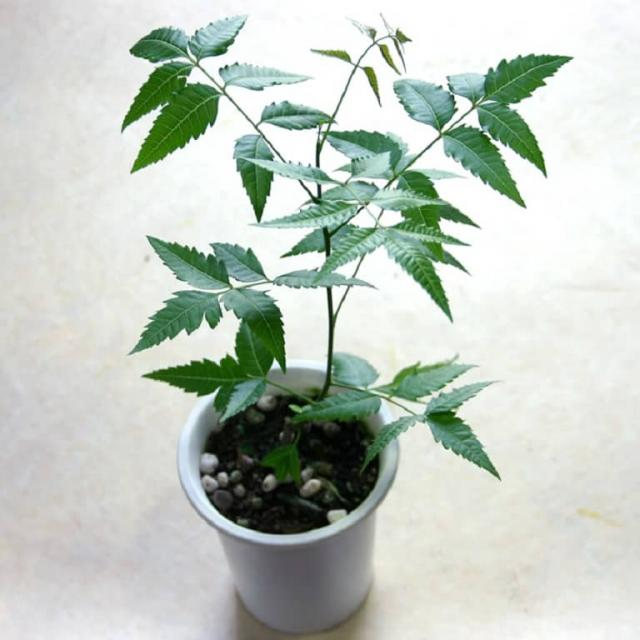Medicinal-Neem: (107, 9, 577, 481)
